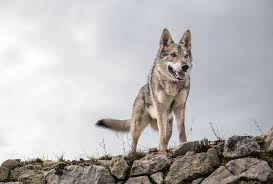Lobo: (106, 24, 202, 156)
